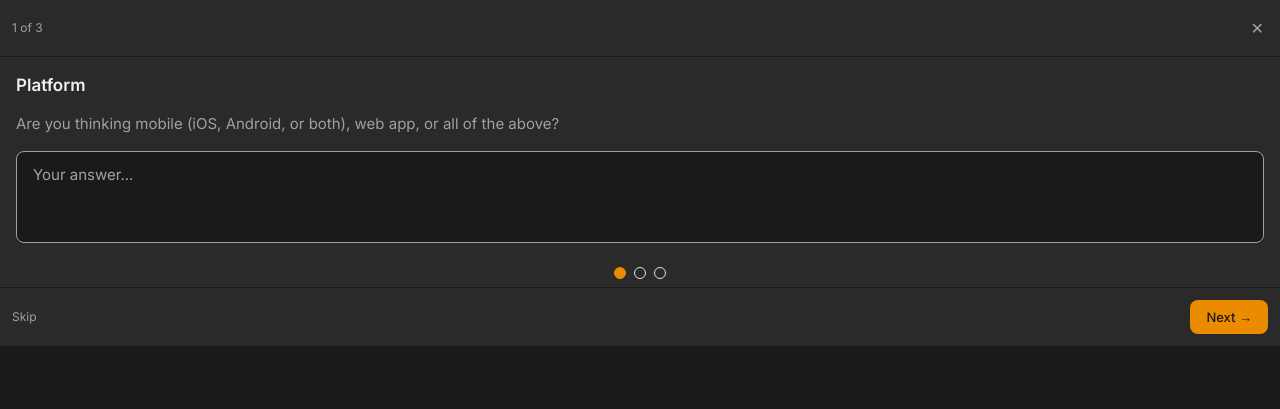
Test: QuestionCardStack › navigates to next question on Next click
Click the button with aria-label "next question": click(1229, 317) [1190,300,1268,334]
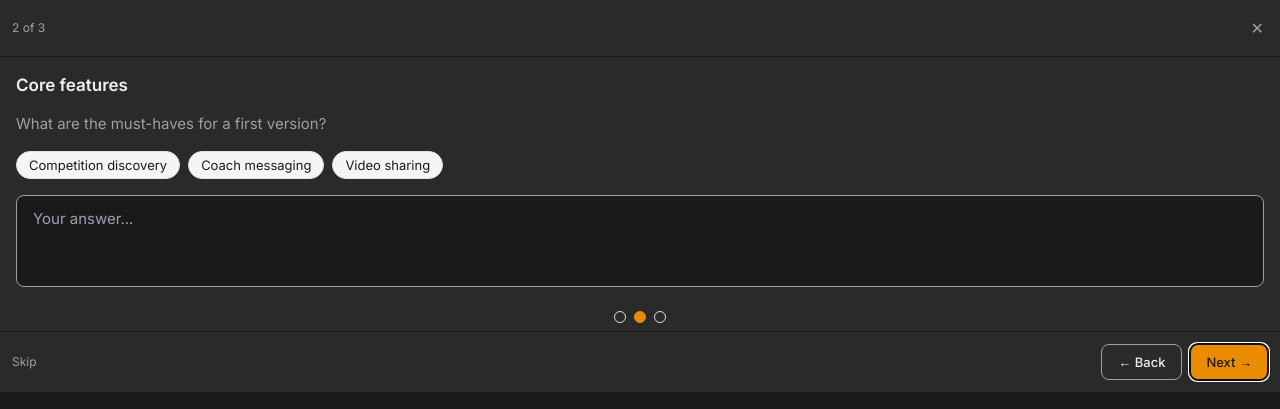
Result: the heading "Core features" is shown at [16,75,128,95]
Result: the text "2 of 3" is shown at [12,20,45,36]
